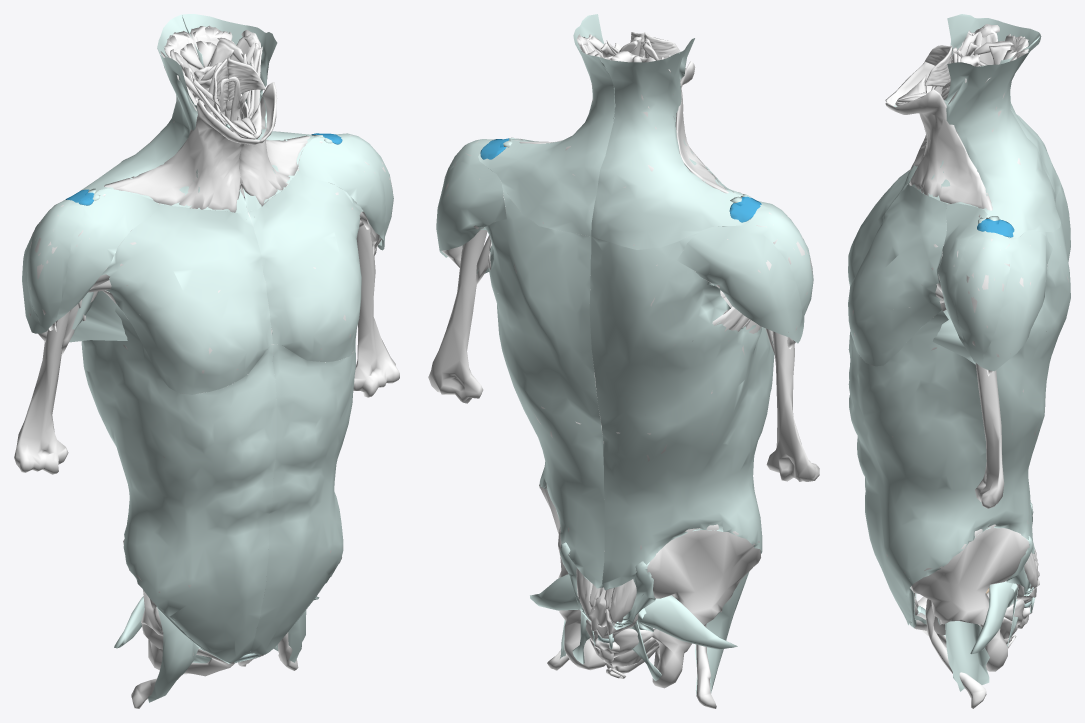
The model's file is thoracic.glb.
The picture shows the model from 3 angles, left to right: view 1: azimuth 30°, elevation 25°; view 2: azimuth 150°, elevation 25°; view 3: azimuth 270°, elevation 25°; orthographic projection. The views are drawn at different scales.
Visible parts, largest first — view 1: Investing abdominal fascia.r, Pectoral fascia.r, Investing abdominal fascia.l, Pectoral fascia.l, Deltoid fascia.r, Platysma.r, Deltoid fascia.l, Superficial investing cervical fascia.r, Humerus.r, Platysma.l, Humerus.l, Superficial investing cervical fascia.l (+5 smaller); view 2: Investing abdominal fascia.r, Investing abdominal fascia.l, Superficial investing cervical fascia.r, Superficial investing cervical fascia.l, Deltoid fascia.r, Hip bone.r, Deltoid fascia.l, Humerus.l, Humerus.r, Piriformis fascia.r, Hip bone.l, Iliopsoas fascia.r (+8 smaller); view 3: Investing abdominal fascia.l, Deltoid fascia.l, Pectoral fascia.l, Superficial investing cervical fascia.l, Hip bone.l, Platysma.l, Humerus.l, Superficial investing cervical fascia.r, Iliopsoas fascia.l, Pectoral fascia.r, Piriformis fascia.l, Psoas major.l (+6 smaller).
Part boxes in pixels (box(x1,y1,x2,y2)): Investing abdominal fascia.r: box(81, 304, 276, 662); Pectoral fascia.r: box(101, 204, 272, 394); Investing abdominal fascia.l: box(249, 341, 355, 655); Pectoral fascia.l: box(248, 171, 363, 362); Deltoid fascia.r: box(22, 188, 159, 333); Platysma.r: box(104, 100, 259, 212); Deltoid fascia.l: box(298, 133, 393, 250); Superficial investing cervical fascia.r: box(64, 15, 247, 213); Humerus.r: box(14, 311, 69, 474); Platysma.l: box(239, 82, 310, 206); Humerus.l: box(353, 225, 399, 397); Superficial investing cervical fascia.l: box(181, 14, 337, 211); Investing abdominal fascia.r: box(589, 233, 774, 590); Investing abdominal fascia.l: box(480, 185, 604, 588); Superficial investing cervical fascia.r: box(591, 38, 756, 249); Superficial investing cervical fascia.l: box(478, 14, 614, 236); Deltoid fascia.r: box(677, 178, 813, 343); Hip bone.r: box(636, 524, 760, 688); Deltoid fascia.l: box(436, 138, 538, 257); Humerus.l: box(428, 227, 487, 403); Humerus.r: box(766, 331, 819, 481); Piriformis fascia.r: box(639, 595, 737, 649); Hip bone.l: box(539, 483, 605, 670); Iliopsoas fascia.r: box(695, 571, 749, 694); Investing abdominal fascia.l: box(848, 221, 1070, 625); Deltoid fascia.l: box(938, 203, 1052, 371); Pectoral fascia.l: box(848, 184, 947, 366); Superficial investing cervical fascia.l: box(908, 37, 1060, 239); Hip bone.l: box(910, 524, 1029, 671); Platysma.l: box(885, 89, 992, 210); Humerus.l: box(975, 363, 1004, 508); Superficial investing cervical fascia.r: box(894, 14, 1060, 198); Iliopsoas fascia.l: box(945, 621, 989, 691); Pectoral fascia.r: box(848, 170, 910, 286); Piriformis fascia.l: box(970, 581, 1014, 654); Psoas major.l: box(925, 599, 986, 708).
Size of the model in its own units: 0.4977 by 0.8115 by 0.2582.
